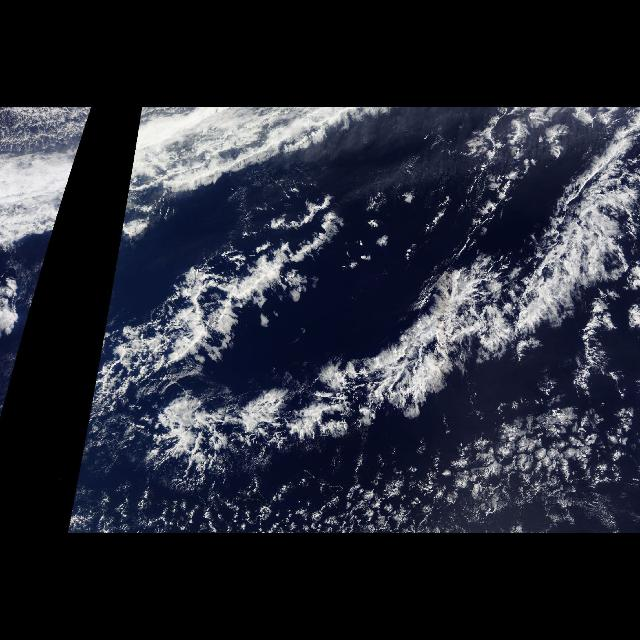Fish: (73, 114, 635, 492), (33, 190, 66, 304)
Flower: (390, 403, 638, 532)
